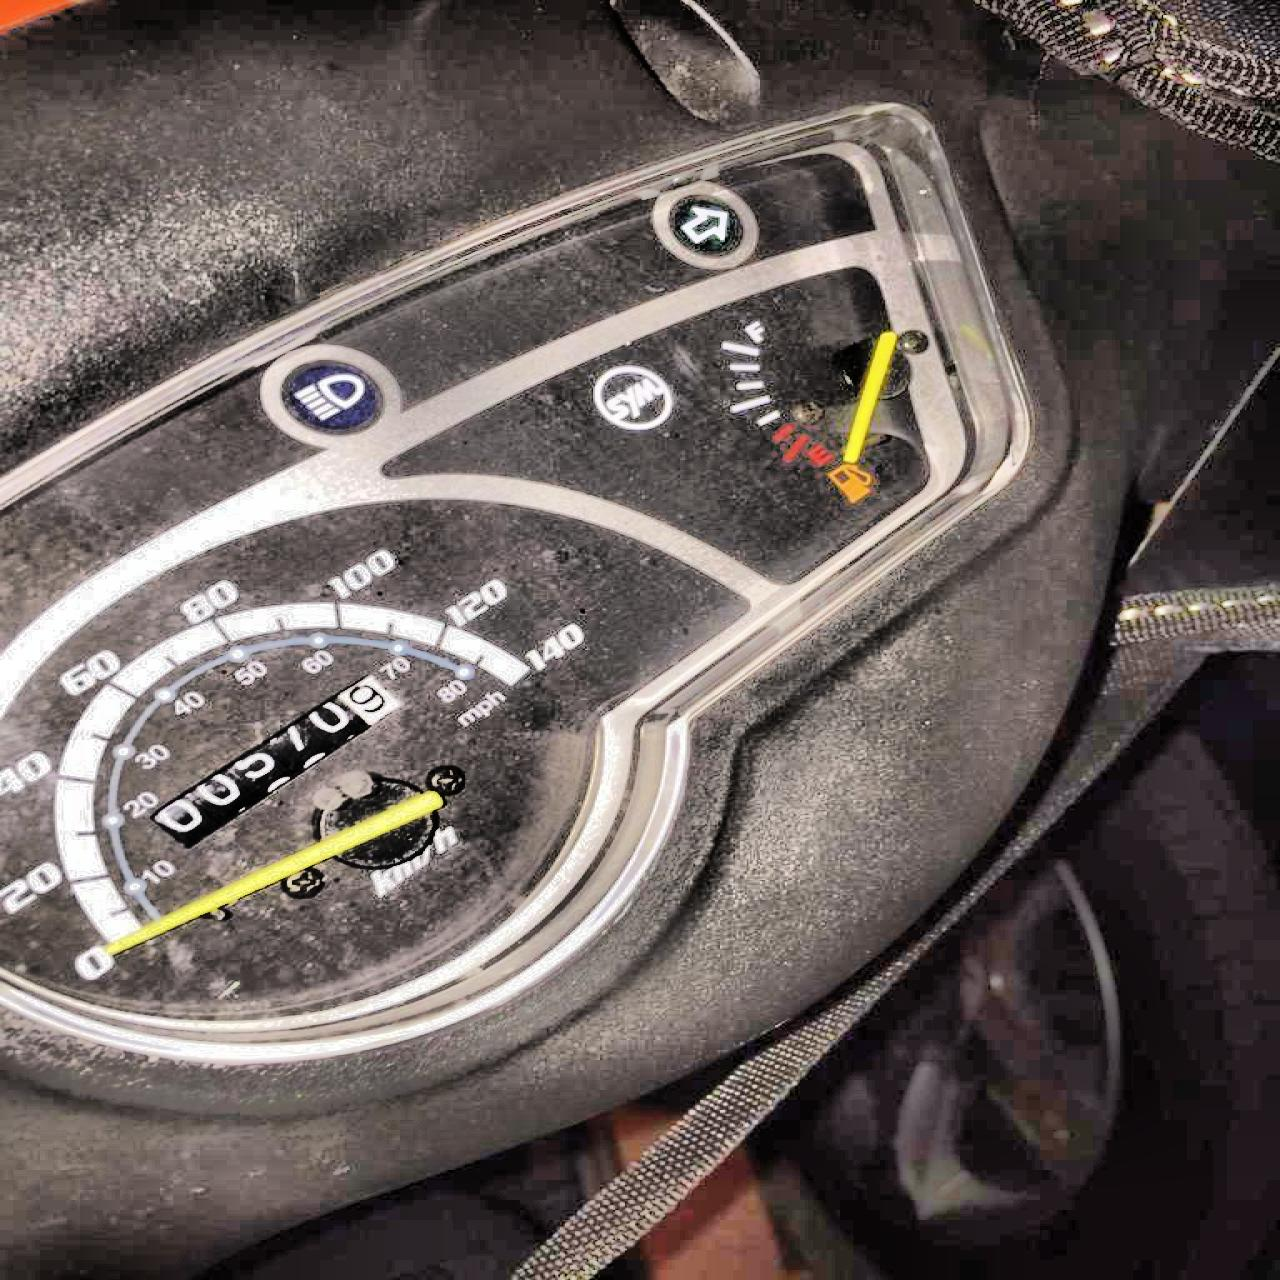0: (193, 772, 240, 808), (157, 798, 202, 832), (305, 701, 348, 733), (182, 688, 205, 708), (147, 743, 171, 758), (138, 789, 157, 808), (248, 660, 267, 676)
3: (134, 754, 151, 769)
4: (172, 699, 190, 714)
5: (225, 747, 278, 778), (232, 669, 253, 685)
7: (260, 721, 304, 754), (379, 662, 395, 681)
9: (345, 682, 388, 716)
odometer: (143, 667, 410, 853)
